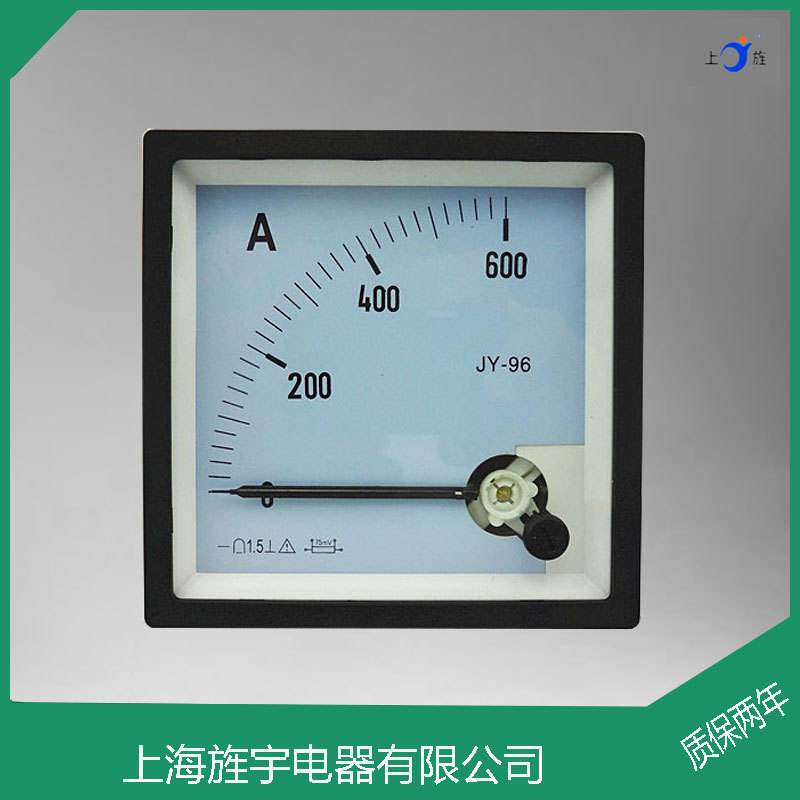pointer: (172, 158, 610, 600)
